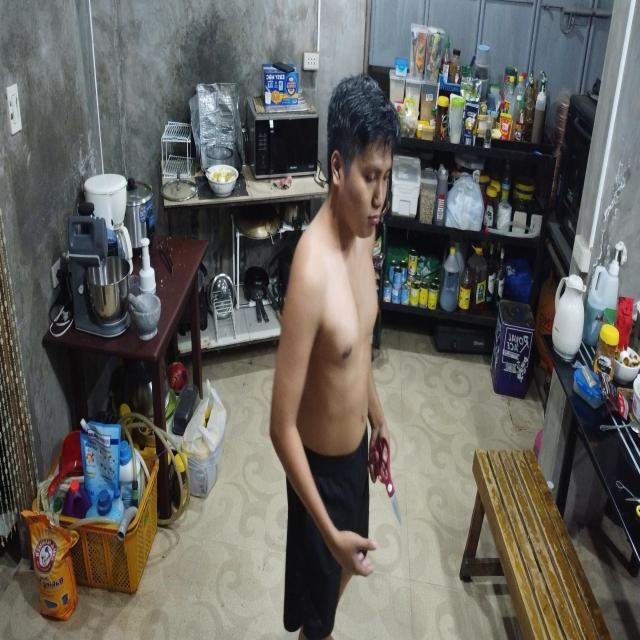scissor: (369, 435, 404, 527)
